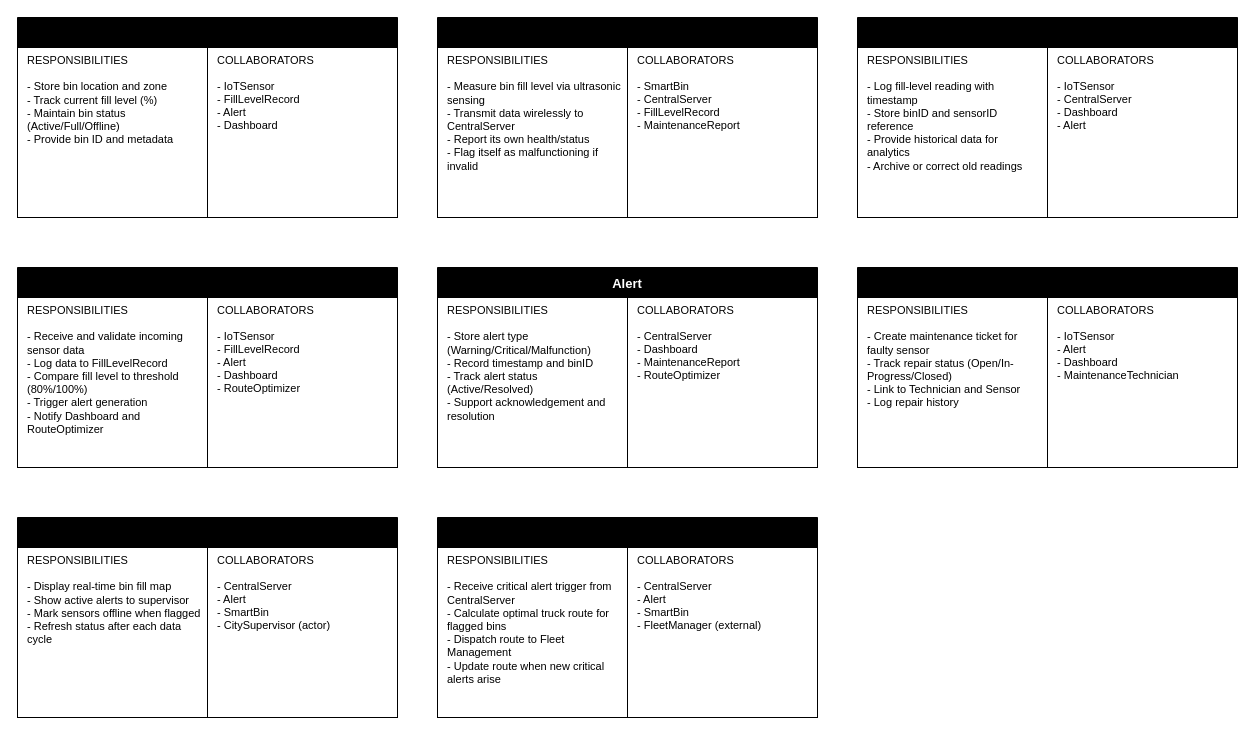
Some shapes in this 1255 by 738 pixel diagram are drawn without their labels. The shapes that lost their labels are listed below. From the top down, each one's box as (x1, y1, x2, y2) in pixels, then its label:
(16, 16, 398, 218): SmartBin
(436, 16, 818, 218): IoTSensor
(856, 16, 1238, 218): FillLevelRecord
(16, 266, 398, 468): CentralServer
(856, 266, 1238, 468): MaintenanceReport
(16, 516, 398, 718): Dashboard
(436, 516, 818, 718): RouteOptimizer
